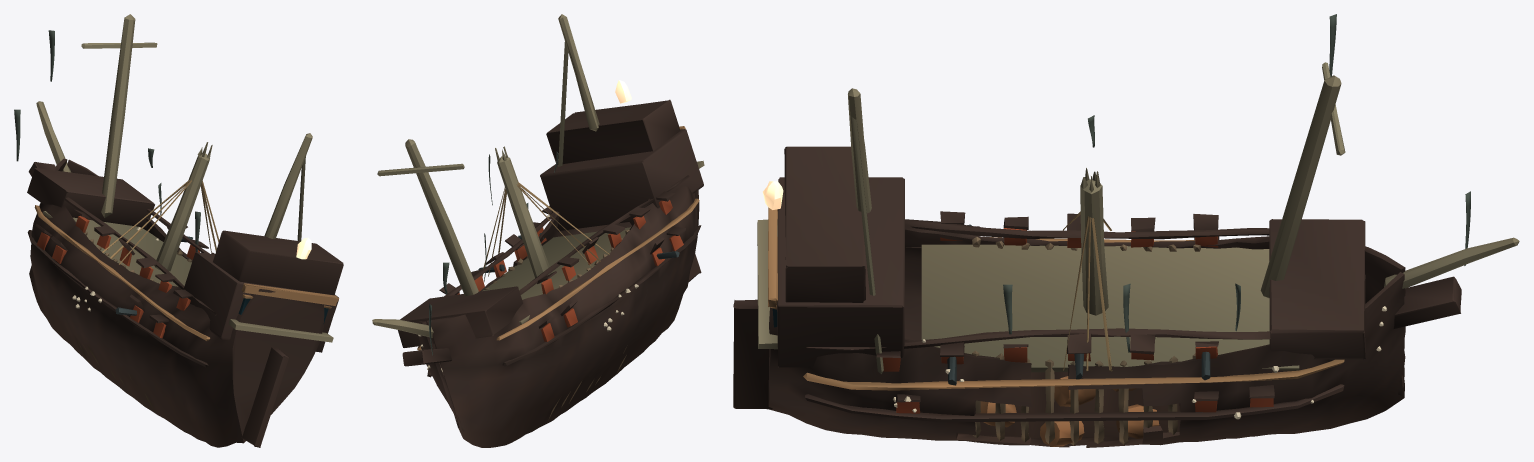
The model's file is wreck_galleon.glb.
The picture shows the model from 3 angles, left to right: view 1: azimuth 30°, elevation 25°; view 2: azimuth 150°, elevation 25°; view 3: azimuth 270°, elevation 25°; orthographic projection. The views are drawn at different scales.
Parts seen in each view (by area): view 1: Galleon; view 2: Galleon; view 3: Galleon.
Part boxes in pixels (<box>): Galleon: <box>14,14,343,447</box>; Galleon: <box>372,14,704,447</box>; Galleon: <box>733,14,1519,447</box>.
Bounding box in the file's own units: 7.16 × 12.1 × 19.82.
